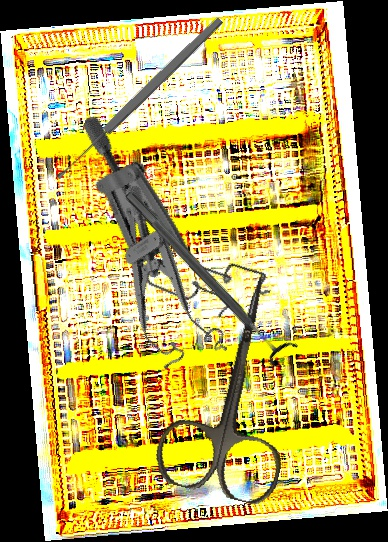Fixation Ring: (114, 181, 300, 371)
Iris Scissors: (149, 258, 326, 509)
Speculum: (33, 111, 308, 336), (68, 181, 244, 387)
Surgical Spoon: (53, 15, 225, 182)
